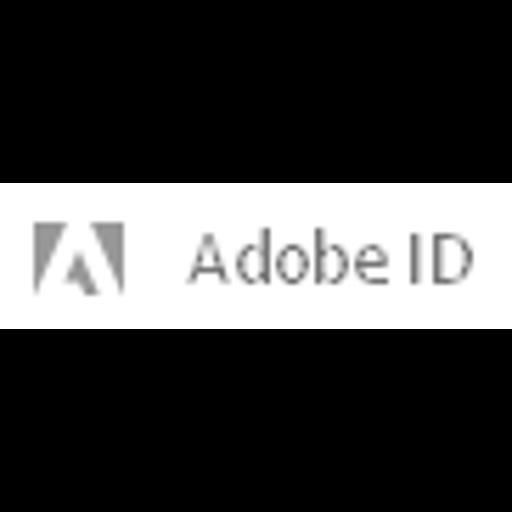Adobe: (0, 183, 512, 329)
